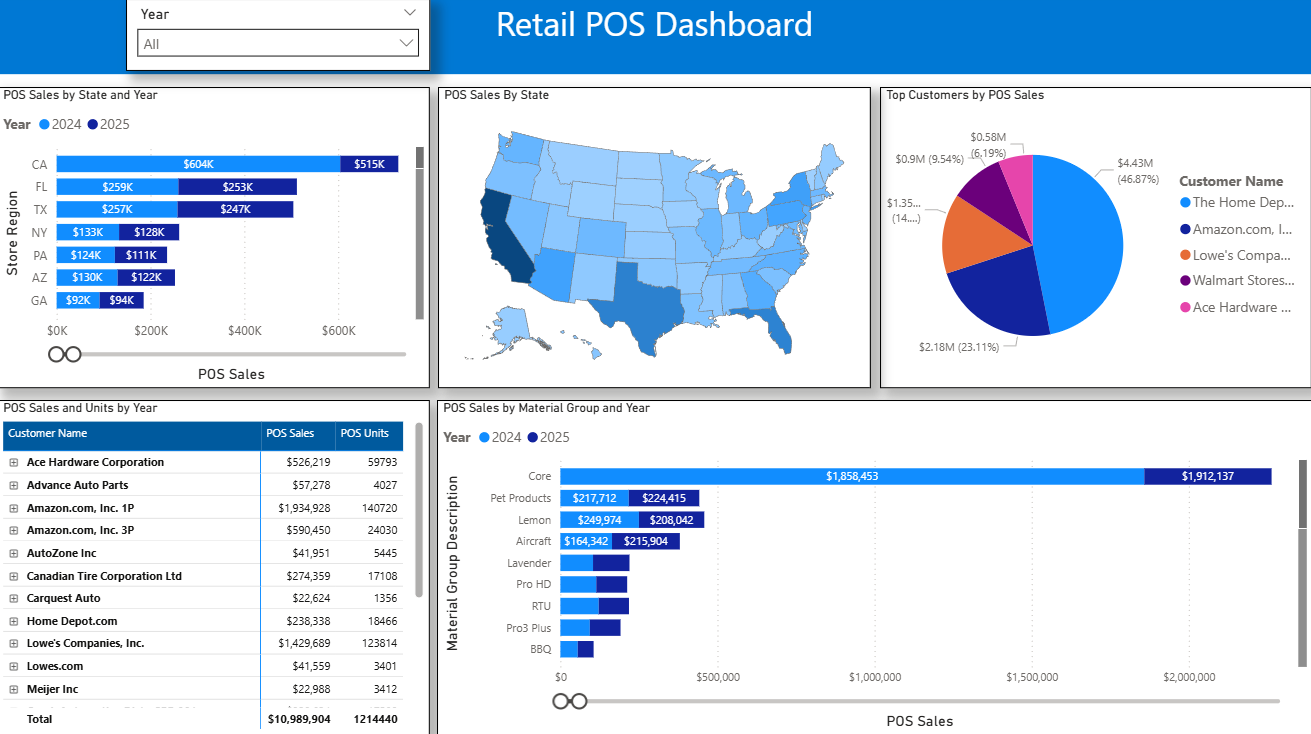

Layout of this report page (visuals, bound fields, positions):
{"tool":"powerbi","page":{"name":"POS Dashboard YoY","canvas":[1280,720],"ordinal":0},"visuals":[{"type":"textbox","box":[0,0,1279.3,77.2],"z":0},{"type":"barChart","title":"POS Sales by State and Year","fields":{"Category":["POS_Combined.Store Region"],"Series":["POS_Combined.Year"],"Y":["POS_Combined.POS Sales (Portfolio)"]},"box":[0,89.6,421.3,293.3],"z":1000},{"type":"pieChart","title":"Top Customers by POS Sales","fields":{"Y":["POS_Combined.POS Sales (Portfolio)"],"Category":["POS_Combined.Customer Generic"]},"box":[858.8,89.8,420.1,293.2],"z":2000},{"type":"slicer","fields":{"Values":["POS_Combined.Year"]},"box":[0,0,300,77],"z":3000},{"type":"shapeMap","title":"POS Sales By State","fields":{"Category":["POS_Combined.Store Region"],"Value":["POS_Combined.POS Sales (Portfolio)"]},"box":[429.4,89.8,421.2,293.2],"z":4000},{"type":"pivotTable","title":"POS Sales and Units by Customer","fields":{"Rows":["POS_Combined.Customer Generic","POS_Combined.Year"],"Values":["POS_Combined.POS Sales (Portfolio)","POS_Combined.POS Units (Portfolio)"]},"box":[0,394.3,421.2,326.2],"z":5000},{"type":"barChart","title":"POS Sales by Material Group Category and Year","fields":{"Series":["POS_Combined.Year"],"Y":["POS_Combined.POS Sales (Portfolio)"],"Category":["POS_Combined.Material Group Generic"]},"box":[428.3,393.8,851.7,325.9],"z":6000}]}

Visuals, with their boxes in screenshot pixels (x1, y1, x2, y2), scaled from the page's 1280x720 canvas onto the 1311x734 screenshot:
textbox: <box>0,0,1310,79</box>
"POS Sales by State and Year" barChart: <box>0,91,432,390</box>
"Top Customers by POS Sales" pieChart: <box>880,92,1310,390</box>
slicer - POS_Combined.Year: <box>0,0,307,78</box>
"POS Sales By State" shapeMap: <box>440,92,871,390</box>
"POS Sales and Units by Customer" pivotTable: <box>0,402,431,733</box>
"POS Sales by Material Group Category and Year" barChart: <box>439,401,1310,733</box>
